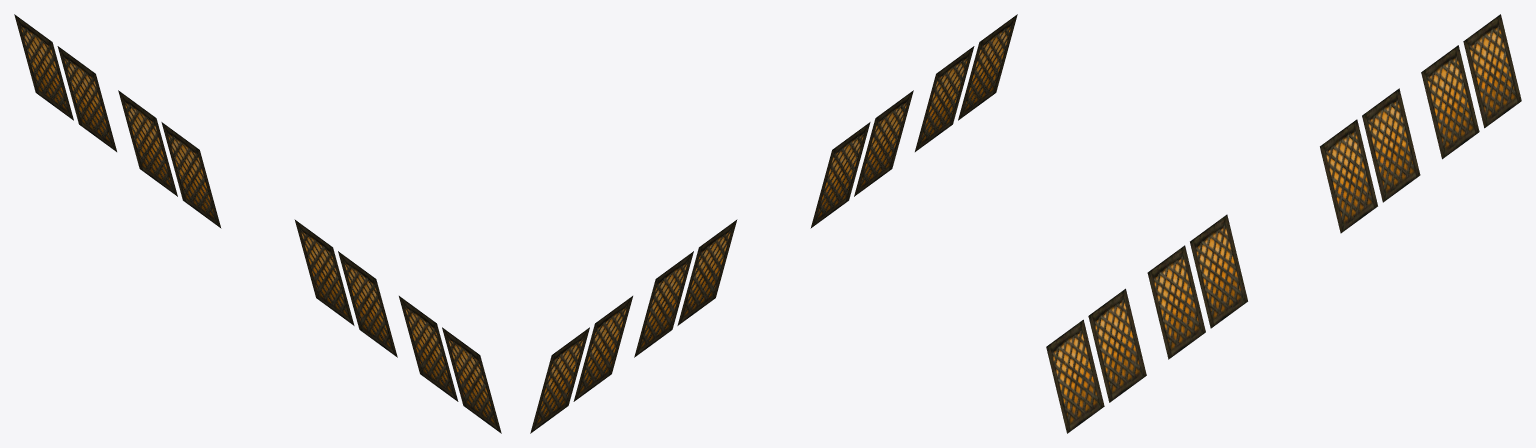
Rendered from LAKETOWN_EXTERIOR_PS_LT_WINDOWS1929.fbx.
3 views of the same model, side by side, from view 1: azimuth 30°, elevation 25°; view 2: azimuth 150°, elevation 25°; view 3: azimuth 330°, elevation 25° (orthographic). The views are drawn at different scales.
Parts seen in each view (by area): view 1: LAKETOWN_EXTERIOR_PS_LT_WINDOWS1929; view 2: LAKETOWN_EXTERIOR_PS_LT_WINDOWS1929; view 3: LAKETOWN_EXTERIOR_PS_LT_WINDOWS1929.
Part boxes in pixels (x1,y1,x2,y2): LAKETOWN_EXTERIOR_PS_LT_WINDOWS1929: (14,14,501,433); LAKETOWN_EXTERIOR_PS_LT_WINDOWS1929: (530,14,1017,433); LAKETOWN_EXTERIOR_PS_LT_WINDOWS1929: (1046,14,1521,433).
Size of the model in its own units: 3391 by 12654 by 127161.
1 material, 1 textured.
